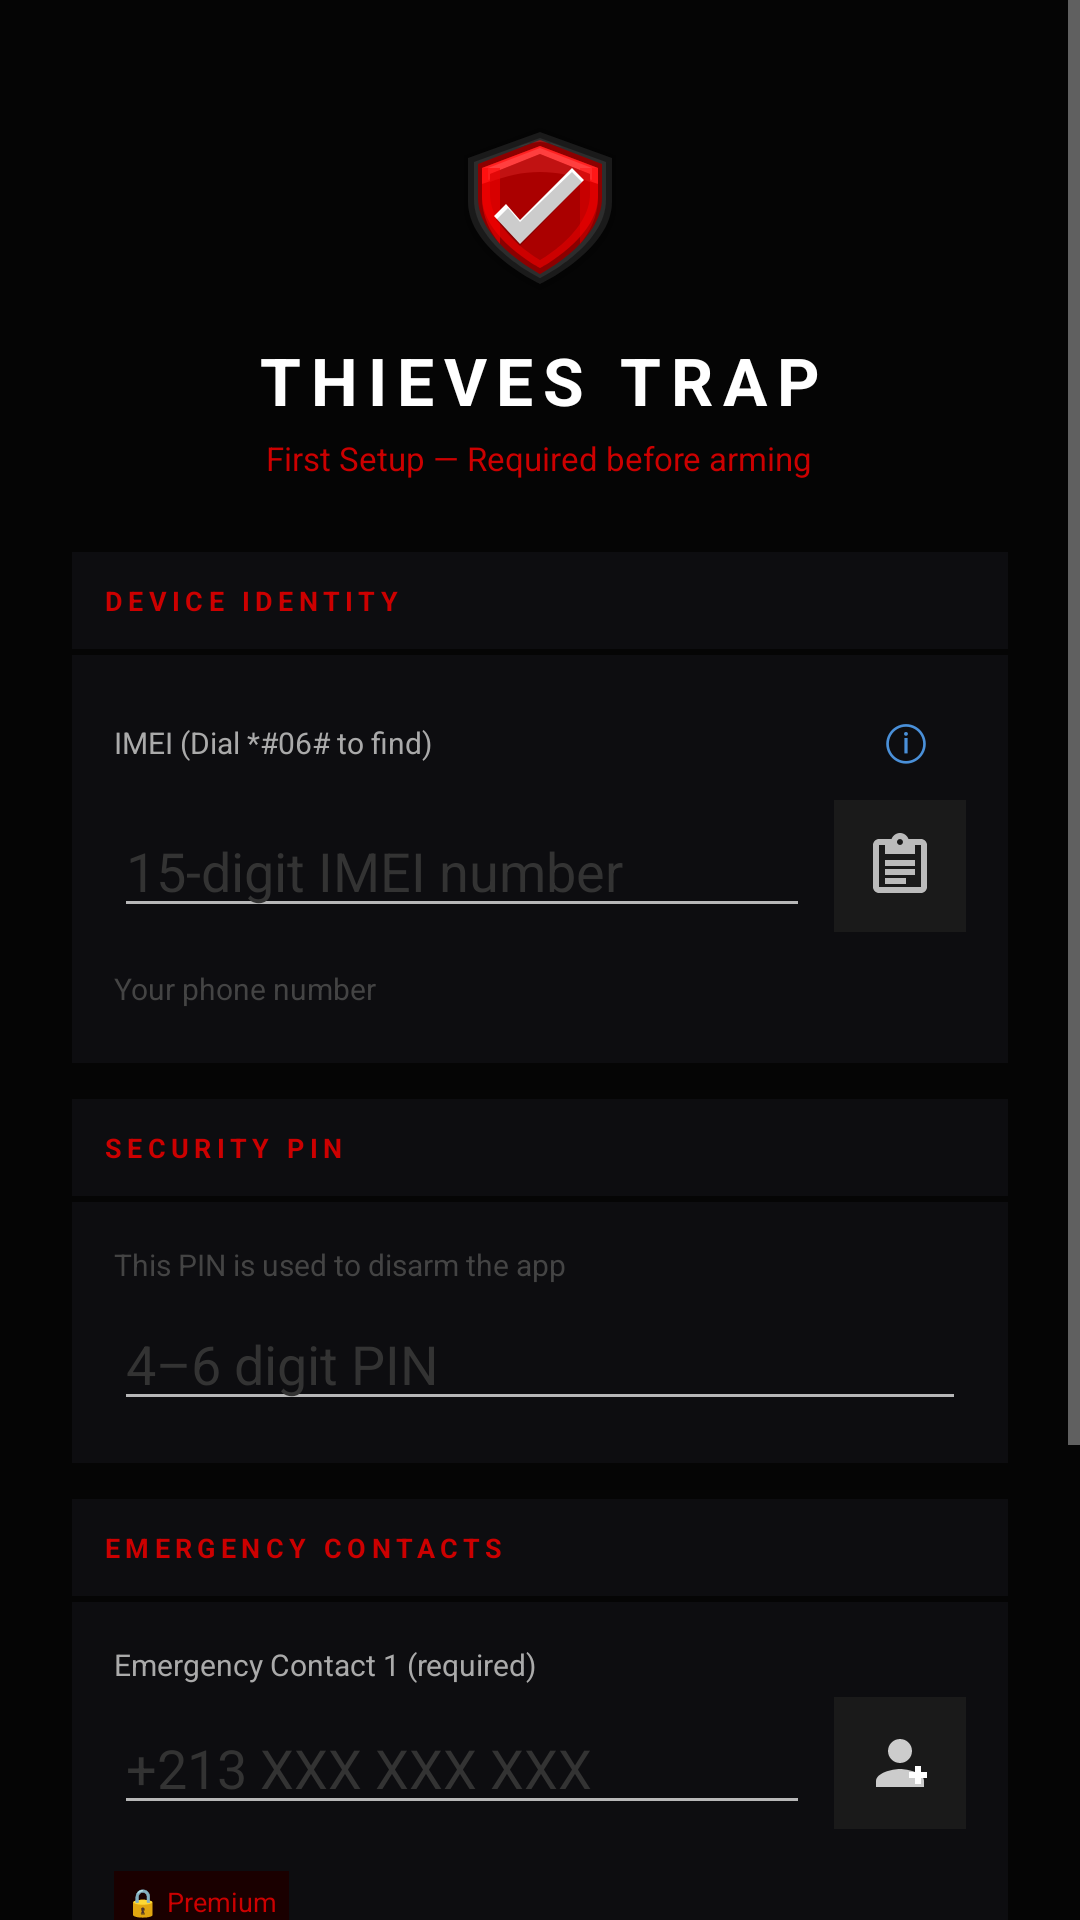

Screen size 1080x1920. Icon name, then its center in pixels as point (x, y):
Paste IMEI: point (900, 863)
Pick from contacts: point (901, 1763)
